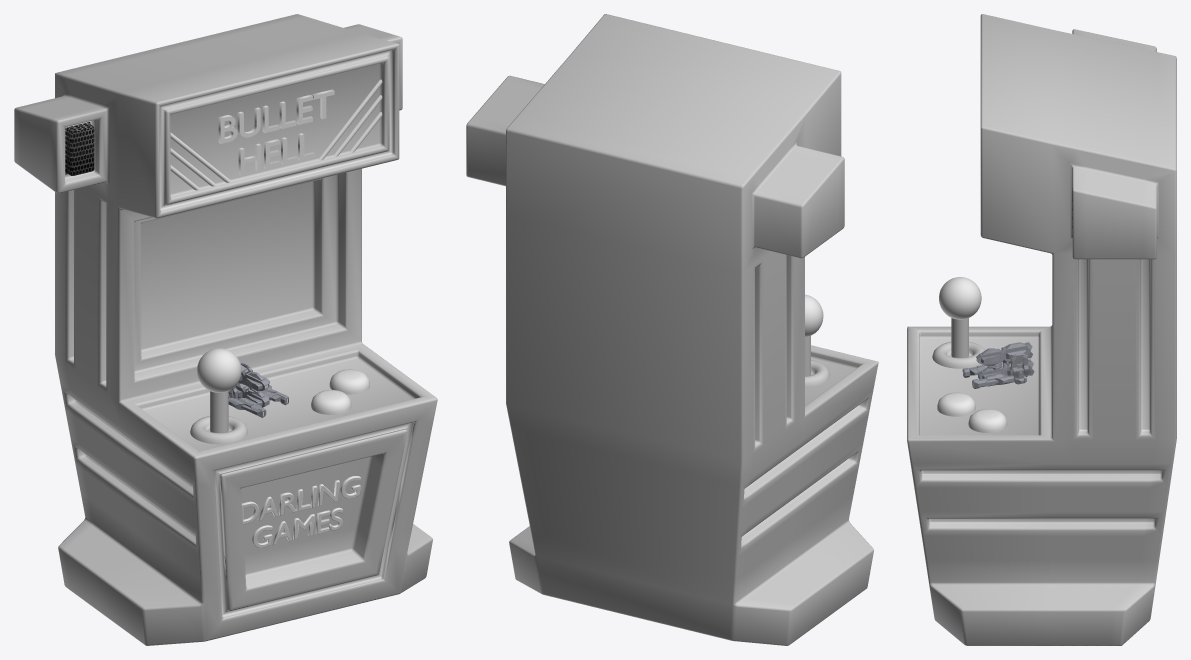
The model's file is Maskine001.fbx.
3 renders of one model, left to right at view 1: azimuth 30°, elevation 25°; view 2: azimuth 150°, elevation 25°; view 3: azimuth 270°, elevation 25°, orthographic. The views are drawn at different scales.
Visible parts, largest first — view 1: Cube, Text.001, Text, ME_ship_IndexedFaceSet.006, Torus.002, Torus.001, Cylinder.004, Cylinder.001, Cylinder, Torus.004, Cylinder.005; view 2: Cube, Torus.002; view 3: Cube, ME_ship_IndexedFaceSet.006, Torus.002, Torus.001, Cylinder.001, Cylinder, Torus.004.
Part boxes in pixels (bbox=[...]): Cube: bbox=[14, 14, 437, 645]; Text.001: bbox=[218, 89, 334, 175]; Text: bbox=[241, 476, 360, 548]; ME_ship_IndexedFaceSet.006: bbox=[228, 363, 288, 417]; Torus.002: bbox=[197, 348, 241, 392]; Torus.001: bbox=[190, 416, 247, 444]; Cylinder.004: bbox=[170, 79, 382, 182]; Cylinder.001: bbox=[311, 390, 351, 414]; Cylinder: bbox=[329, 369, 369, 394]; Torus.004: bbox=[210, 391, 228, 432]; Cylinder.005: bbox=[170, 95, 382, 186]; Cube: bbox=[466, 14, 878, 645]; Torus.002: bbox=[805, 294, 823, 337]; Cube: bbox=[907, 14, 1176, 645]; ME_ship_IndexedFaceSet.006: bbox=[962, 342, 1034, 388]; Torus.002: bbox=[939, 277, 981, 319]; Torus.001: bbox=[932, 341, 985, 368]; Cylinder.001: bbox=[937, 392, 975, 416]; Cylinder: bbox=[968, 409, 1007, 432]; Torus.004: bbox=[951, 318, 968, 357].
Bounding box in the file's own units: 284 × 417 × 200.
